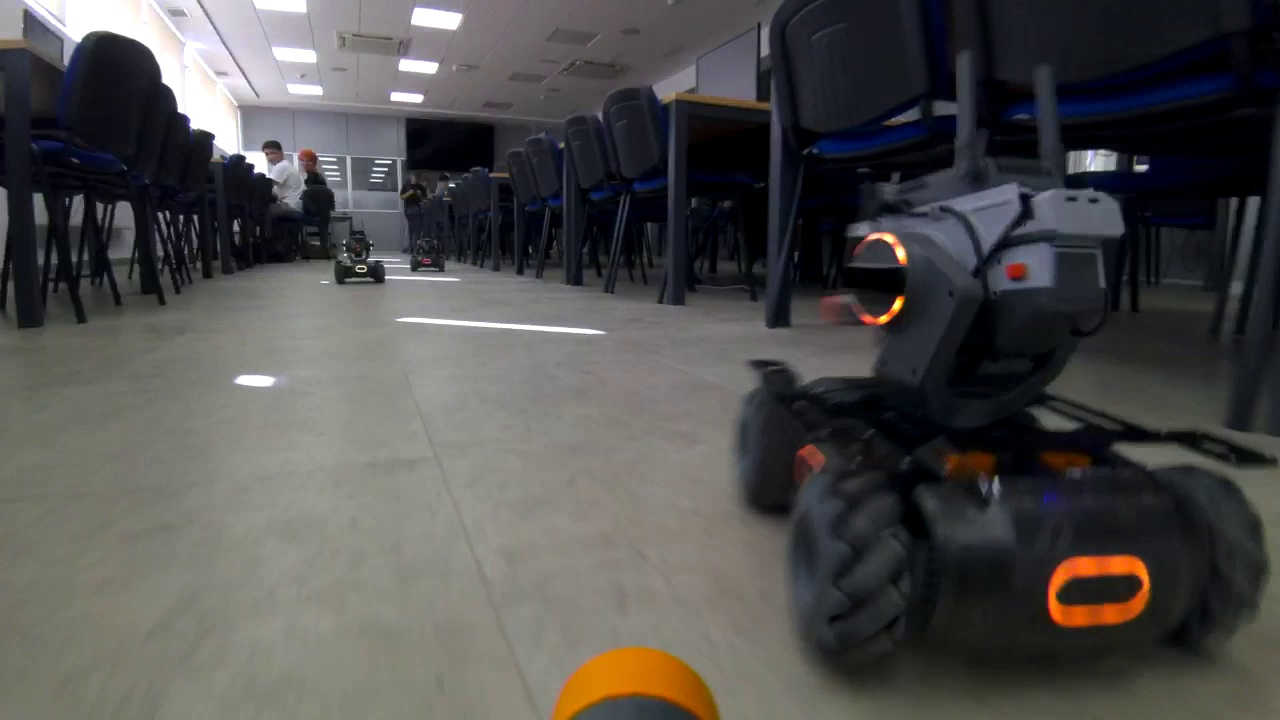robot: (738, 160, 1267, 672), (330, 231, 391, 287)
